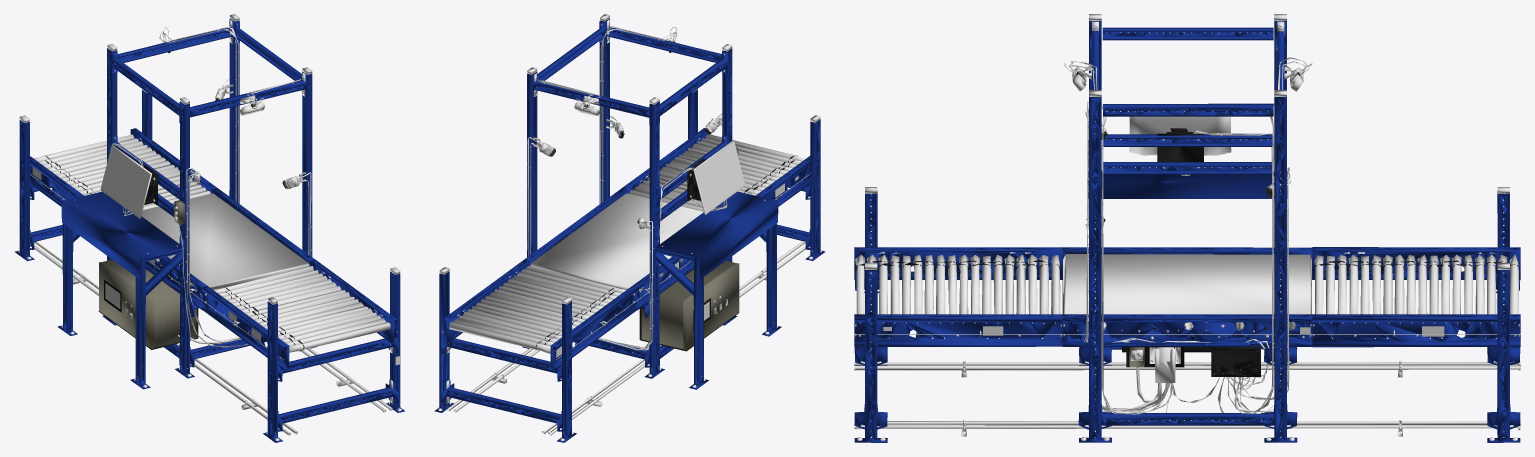
The picture shows the model from 3 angles, left to right: view 1: azimuth 30°, elevation 25°; view 2: azimuth 150°, elevation 25°; view 3: azimuth 270°, elevation 25°; orthographic projection. The views are drawn at different scales.
Visible parts, largest first — view 1: part_b492f677aa7a5b7c, part_68c676bea03e510d, part_8bd85293a60856cb, part_ebe1ee5938485de8, part_663b9dd1726e5612, part_ac2e4961338953db, part_490b65f9ca9c5cdd, part_0257a687e6f5582a, part_4faab7bf7b495580, part_8ab84fa53eec5cd2, part_0ca6b17b1ba15953, part_b356586359f8511b (+11 smaller); view 2: part_b492f677aa7a5b7c, part_d97cbe16906c5a23, part_3d5c39e101a65828, part_2c545c691f6b517b, part_84e16ded23205dea, part_893e6863ebe15100, part_a98f26b69e9051c7, part_2142427796c45352, part_1f53666c628d543c, part_a8dfc2596ad951fd, part_d2d8882fff3f5371, part_68c676bea03e510d (+9 smaller); view 3: part_b492f677aa7a5b7c.
Part boxes in pixels (bbox=[...]): part_b492f677aa7a5b7c: bbox=[14, 14, 404, 442]; part_68c676bea03e510d: bbox=[289, 322, 390, 352]; part_8bd85293a60856cb: bbox=[213, 266, 313, 293]; part_ebe1ee5938485de8: bbox=[278, 308, 372, 335]; part_663b9dd1726e5612: bbox=[286, 318, 385, 346]; part_ac2e4961338953db: bbox=[227, 275, 327, 303]; part_490b65f9ca9c5cdd: bbox=[236, 282, 336, 309]; part_0257a687e6f5582a: bbox=[249, 292, 350, 319]; part_4faab7bf7b495580: bbox=[218, 270, 318, 296]; part_8ab84fa53eec5cd2: bbox=[232, 279, 332, 306]; part_0ca6b17b1ba15953: bbox=[281, 315, 381, 342]; part_b356586359f8511b: bbox=[278, 312, 376, 339]; part_b492f677aa7a5b7c: bbox=[434, 14, 825, 442]; part_d97cbe16906c5a23: bbox=[449, 322, 550, 353]; part_3d5c39e101a65828: bbox=[462, 311, 561, 339]; part_2c545c691f6b517b: bbox=[453, 318, 553, 346]; part_84e16ded23205dea: bbox=[512, 276, 612, 302]; part_893e6863ebe15100: bbox=[525, 266, 625, 292]; part_a98f26b69e9051c7: bbox=[516, 272, 617, 299]; part_2142427796c45352: bbox=[508, 279, 608, 306]; part_1f53666c628d543c: bbox=[521, 269, 621, 296]; part_a8dfc2596ad951fd: bbox=[476, 302, 576, 329]; part_d2d8882fff3f5371: bbox=[467, 309, 561, 335]; part_68c676bea03e510d: bbox=[706, 134, 805, 161]; part_b492f677aa7a5b7c: bbox=[854, 14, 1520, 442].
Bounding box in the file's own units: 1.54 × 2.31 × 4.
